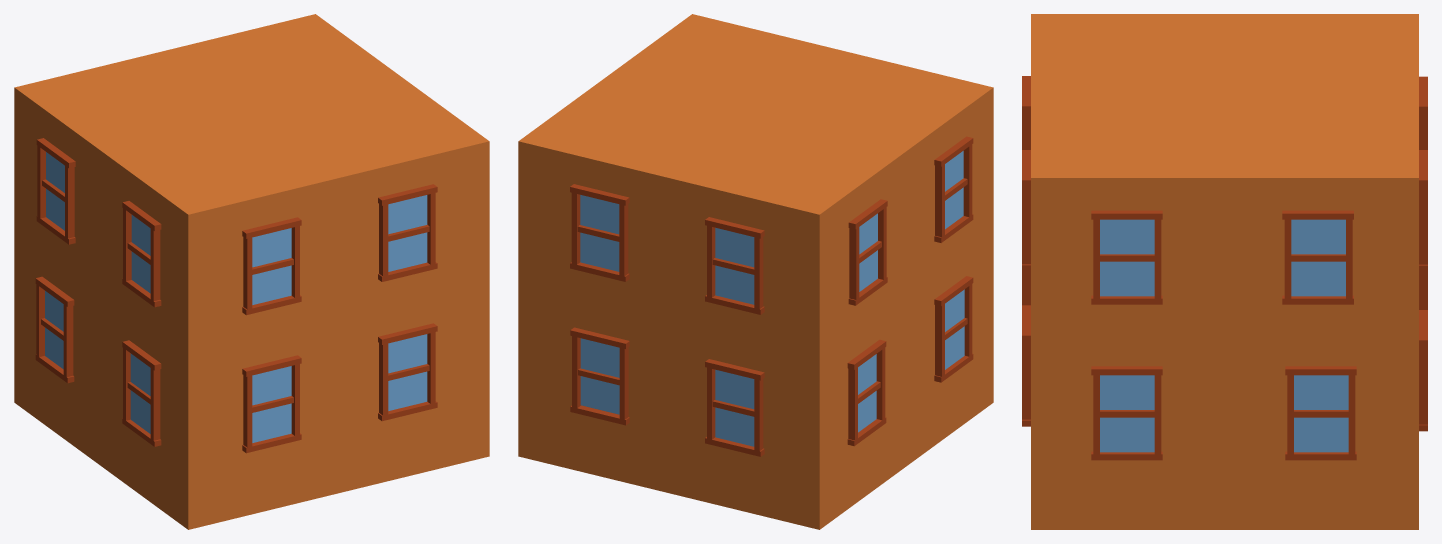
Rendered from apartmentmid.glb.
3 renders of one model, left to right at view 1: azimuth 30°, elevation 25°; view 2: azimuth 150°, elevation 25°; view 3: azimuth 270°, elevation 25°, orthographic. The views are drawn at different scales.
Visible parts, largest first — view 1: Cube, Cube.022, Cube.018, Cube.024, Cube.019, Cube.016, Cube.021, Cube.017, Cube.023, Cube.031, Cube.029, Cube.030 (+5 smaller); view 2: Cube, Cube.009, Cube.013, Cube.015, Cube.011, Cube.014, Cube.010, Cube.008, Cube.012, Cube.029, Cube.030, Cube.031 (+5 smaller); view 3: Cube, Cube.002, Cube.001, Cube.004, Cube.006, Cube.020, Cube.003, Cube.005, Cube.007, Cube.009, Cube.013, Cube.019 (+3 smaller).
Part boxes in pixels (bbox=[...]): Cube: bbox=[14, 14, 489, 529]; Cube.022: bbox=[242, 355, 301, 453]; Cube.018: bbox=[242, 217, 301, 315]; Cube.024: bbox=[378, 323, 437, 421]; Cube.019: bbox=[378, 184, 437, 281]; Cube.016: bbox=[252, 228, 291, 304]; Cube.021: bbox=[252, 366, 291, 442]; Cube.017: bbox=[388, 195, 427, 271]; Cube.023: bbox=[388, 334, 427, 410]; Cube.031: bbox=[35, 276, 74, 383]; Cube.029: bbox=[122, 201, 161, 307]; Cube.030: bbox=[36, 138, 75, 244]; Cube: bbox=[518, 14, 993, 529]; Cube.009: bbox=[570, 184, 629, 281]; Cube.013: bbox=[570, 327, 629, 425]; Cube.015: bbox=[705, 359, 764, 456]; Cube.011: bbox=[705, 217, 764, 314]; Cube.014: bbox=[715, 369, 754, 446]; Cube.010: bbox=[715, 227, 754, 304]; Cube.008: bbox=[580, 195, 619, 271]; Cube.012: bbox=[580, 338, 619, 414]; Cube.029: bbox=[934, 136, 973, 242]; Cube.030: bbox=[848, 199, 887, 305]; Cube.031: bbox=[847, 339, 886, 446]; Cube: bbox=[1031, 14, 1418, 529]; Cube.002: bbox=[1100, 219, 1154, 296]; Cube.001: bbox=[1291, 219, 1345, 296]; Cube.004: bbox=[1100, 375, 1154, 452]; Cube.006: bbox=[1294, 375, 1348, 452]; Cube.020: bbox=[1091, 210, 1162, 304]; Cube.003: bbox=[1282, 210, 1353, 304]; Cube.005: bbox=[1091, 366, 1162, 460]; Cube.007: bbox=[1285, 366, 1356, 460]; Cube.009: bbox=[1419, 150, 1427, 271]; Cube.013: bbox=[1419, 310, 1427, 431]; Cube.019: bbox=[1022, 150, 1030, 271].
Bounding box in the file's own units: 2.08 × 2 × 2.09.
